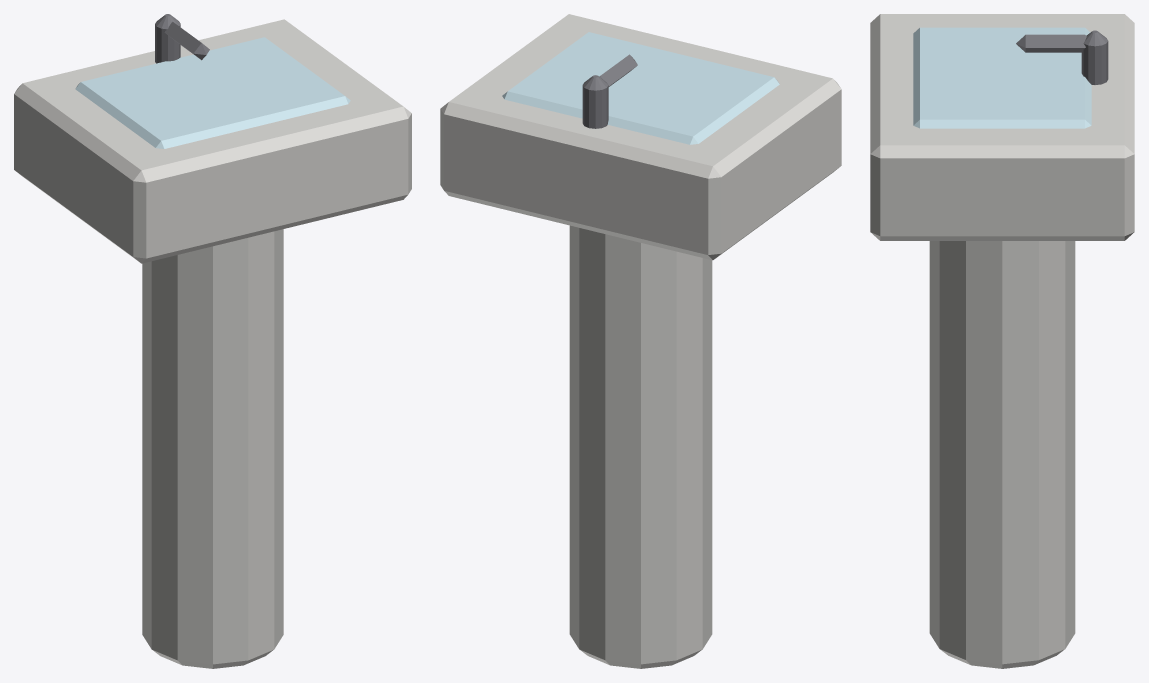
The model's file is SM_Sink_Bath.fbx.
3 views of the same model, side by side, from view 1: azimuth 30°, elevation 25°; view 2: azimuth 150°, elevation 25°; view 3: azimuth 270°, elevation 25° (orthographic). The views are drawn at different scales.
Parts seen in each view (by area): view 1: Sink_Bath; view 2: Sink_Bath; view 3: Sink_Bath.
Part boxes in pixels (bbox=[...]): Sink_Bath: bbox=[14, 14, 411, 668]; Sink_Bath: bbox=[440, 14, 841, 668]; Sink_Bath: bbox=[870, 14, 1134, 668].
Bounding box in the file's own units: 50 × 102 × 40.
